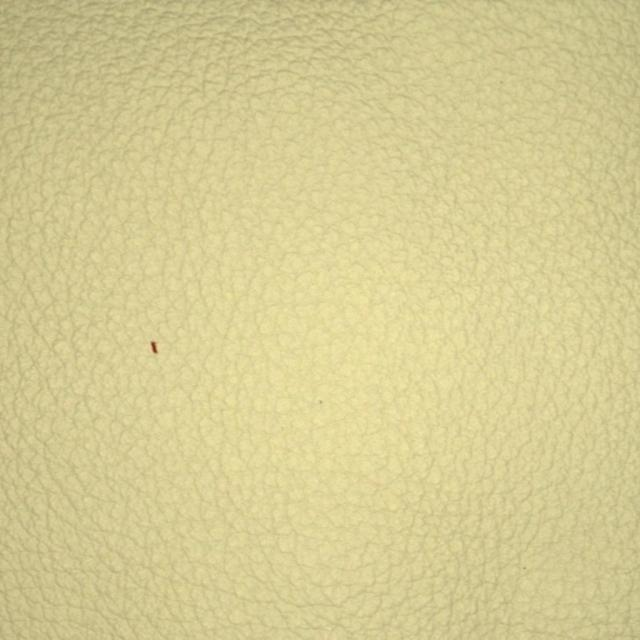Hole: (83, 294, 242, 412)
